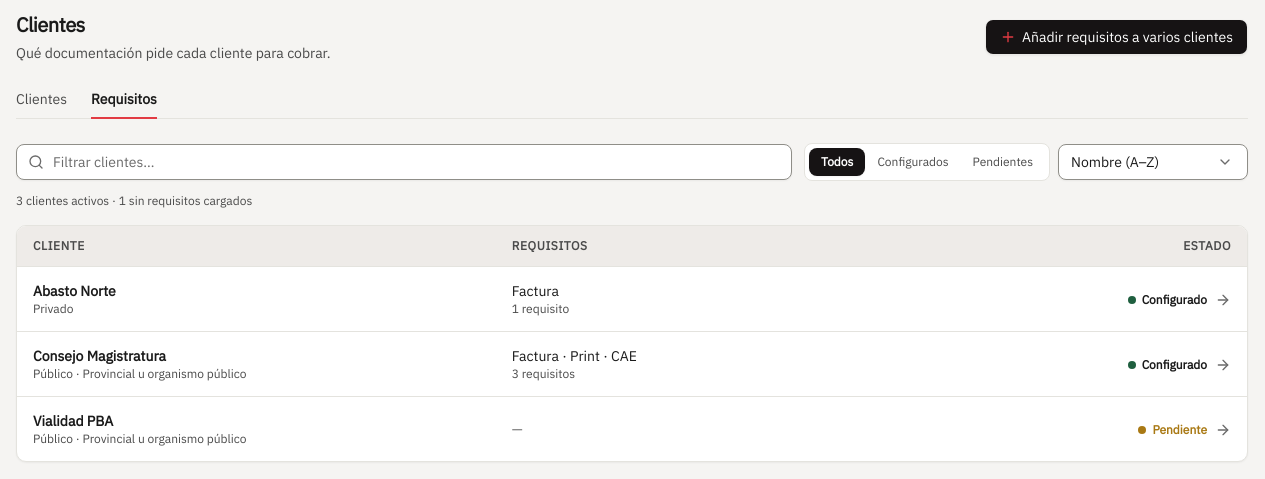
Test: MatricesPage › permite filtrar por estado (Todos, Configurados, Pendientes)
Note: Clic en "Pendientes"
Click the button "Pendientes".
click(1003, 162)  # box x1=961 y1=148 x2=1045 y2=176
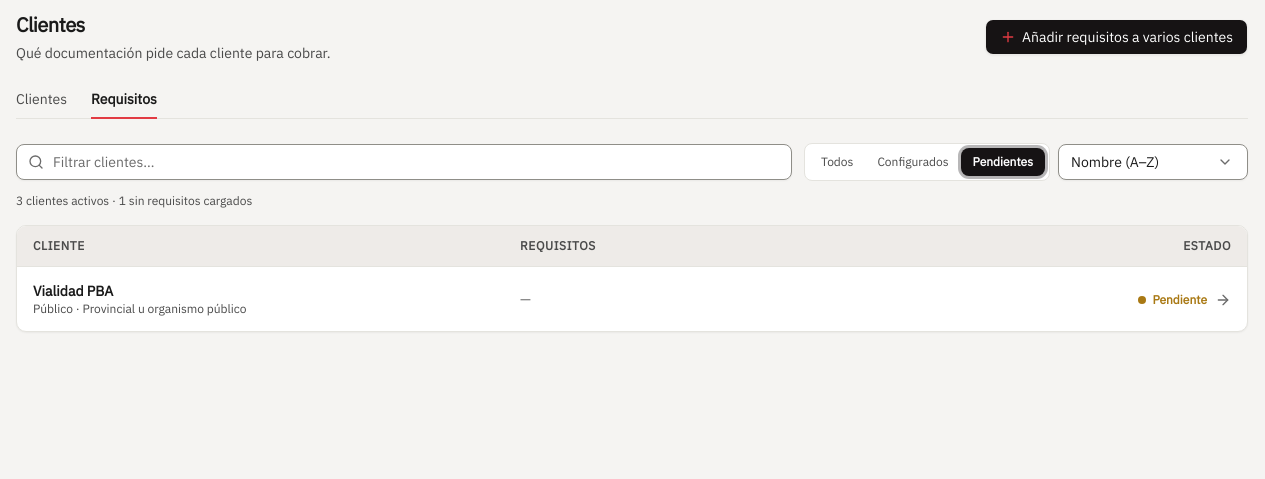
Check: the link "Vialidad PBA" is shown, box x1=33 y1=281 x2=113 y2=301
Check: the link "Consejo Magistratura" is gone
Check: the link "Abasto Norte" is gone
Note: Clic en "Configurados"
Click the button "Configurados".
click(913, 162)  # box x1=865 y1=148 x2=961 y2=176
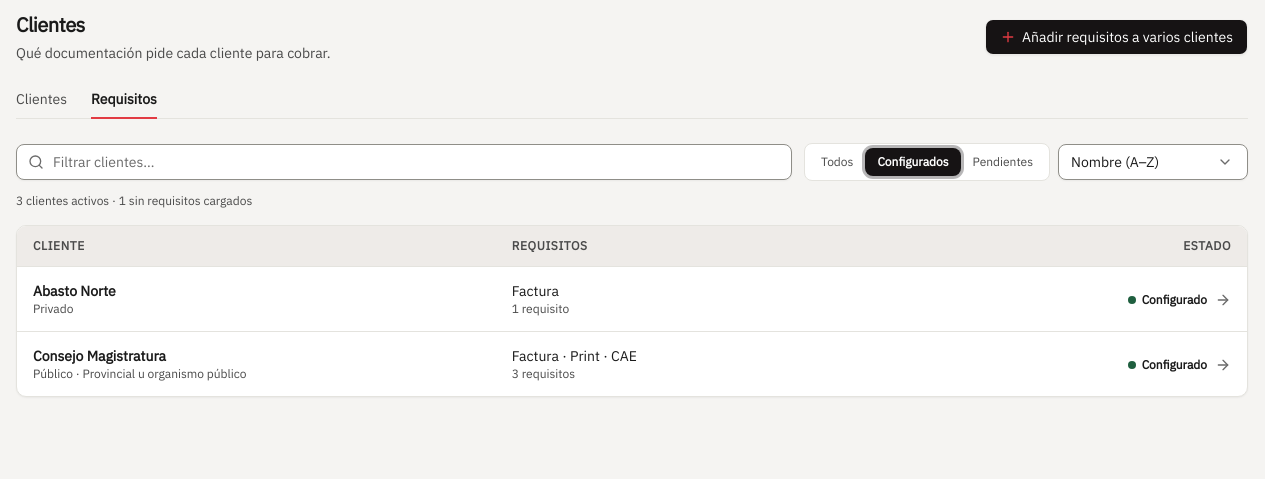
Check: the link "Consejo Magistratura" is shown, box x1=33 y1=346 x2=166 y2=366
Check: the link "Abasto Norte" is shown, box x1=33 y1=281 x2=116 y2=301
Check: the link "Vialidad PBA" is gone
